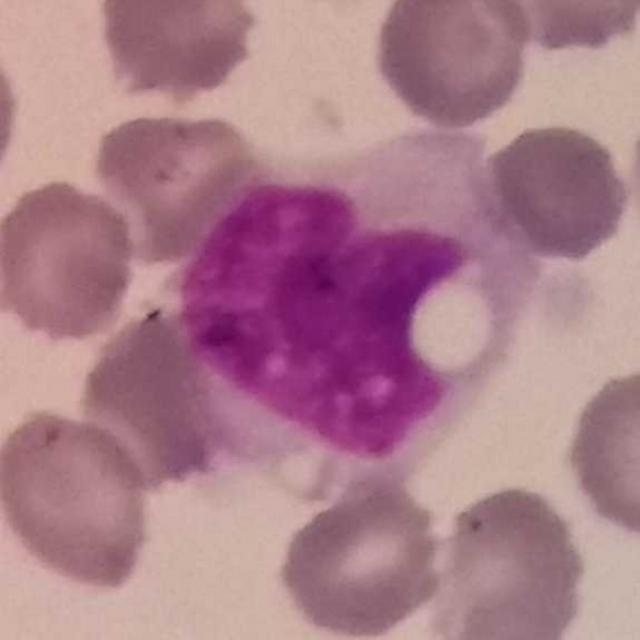mono: (177, 125, 538, 500)
